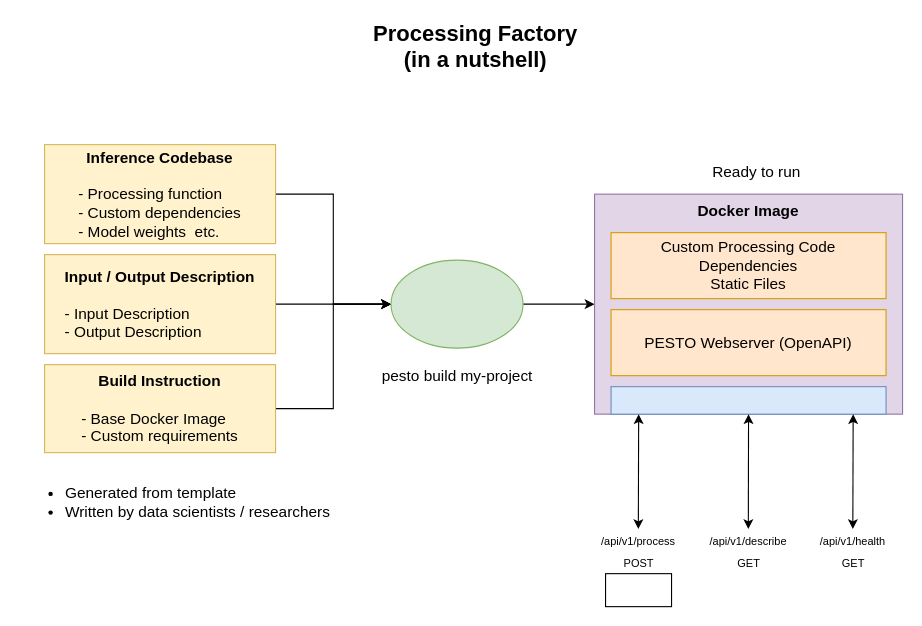
This 922x626 diagram has some shape labels left out. The centre of each missing label's shape, as x and y in pixels:
"pesto" goes at point 456,303.
"PESTO RESTful API" goes at point 748,400.
"Processing Payload" goes at point 638,590.
